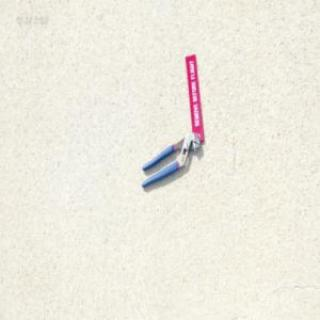LuggageTagtrack_idkeyframe: (185, 53, 205, 141)
Pliertrack_idkeyframe: (140, 130, 200, 188)
